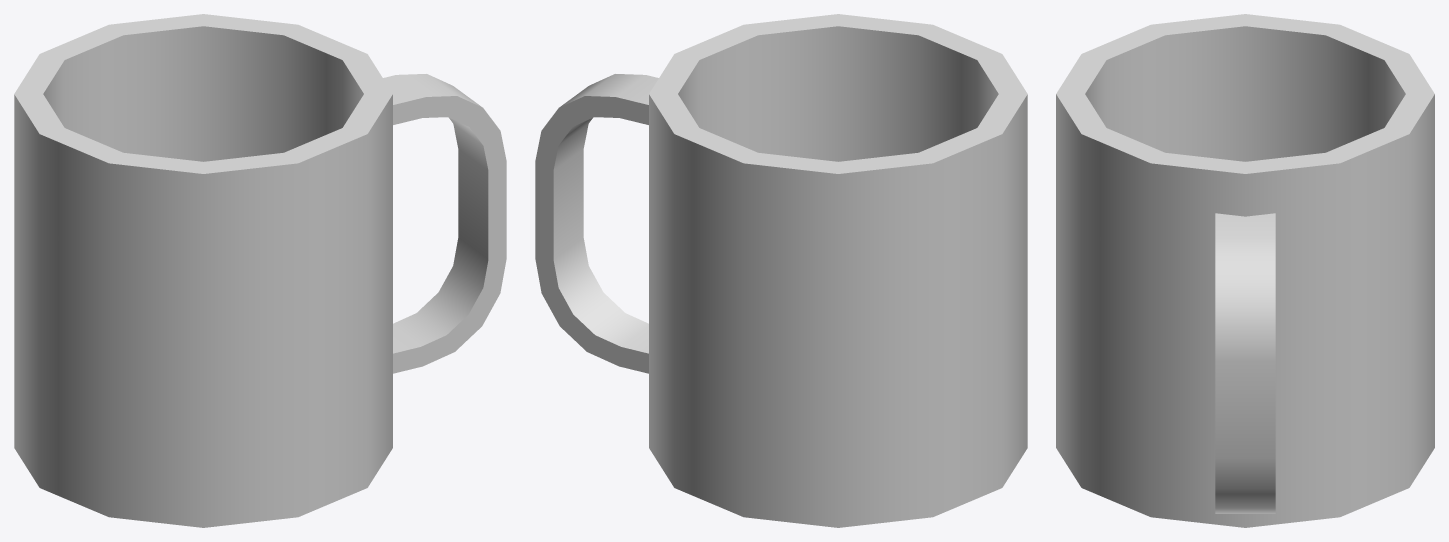
Rendered from CoffeeCup.fbx.
3 views of the same model, side by side, from view 1: azimuth 30°, elevation 25°; view 2: azimuth 150°, elevation 25°; view 3: azimuth 270°, elevation 25° (orthographic).
Parts seen in each view (by area): view 1: CoffeeCup; view 2: CoffeeCup; view 3: CoffeeCup.
Boxes of the visible parts, bbox=[...] form: CoffeeCup: bbox=[14, 14, 506, 527]; CoffeeCup: bbox=[535, 14, 1027, 527]; CoffeeCup: bbox=[1056, 14, 1434, 527].
Bounding box in the file's own units: 15.58 × 11.66 × 11.31.
